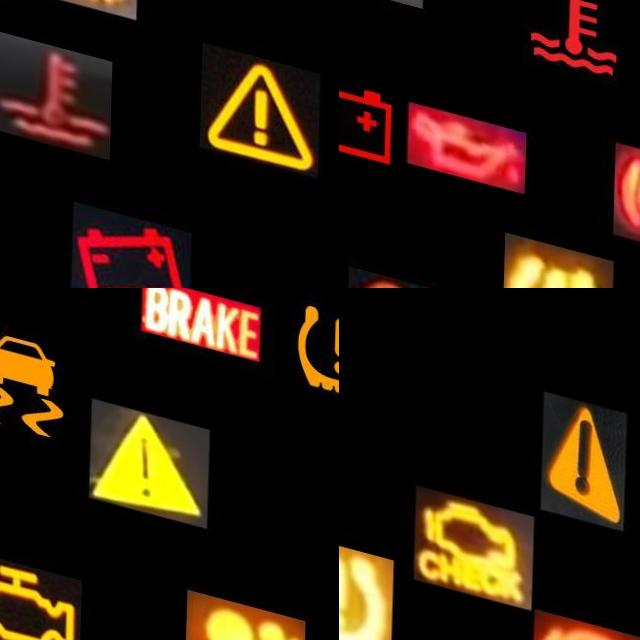Central Warning lamp: (201, 24, 321, 153), (91, 382, 212, 506), (541, 363, 627, 499)
Engine cooling system: (0, 22, 113, 146), (515, 0, 635, 80)
